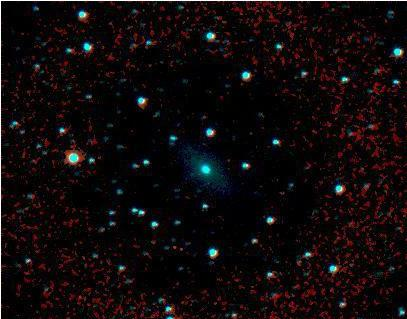star: (161, 232, 191, 262)
